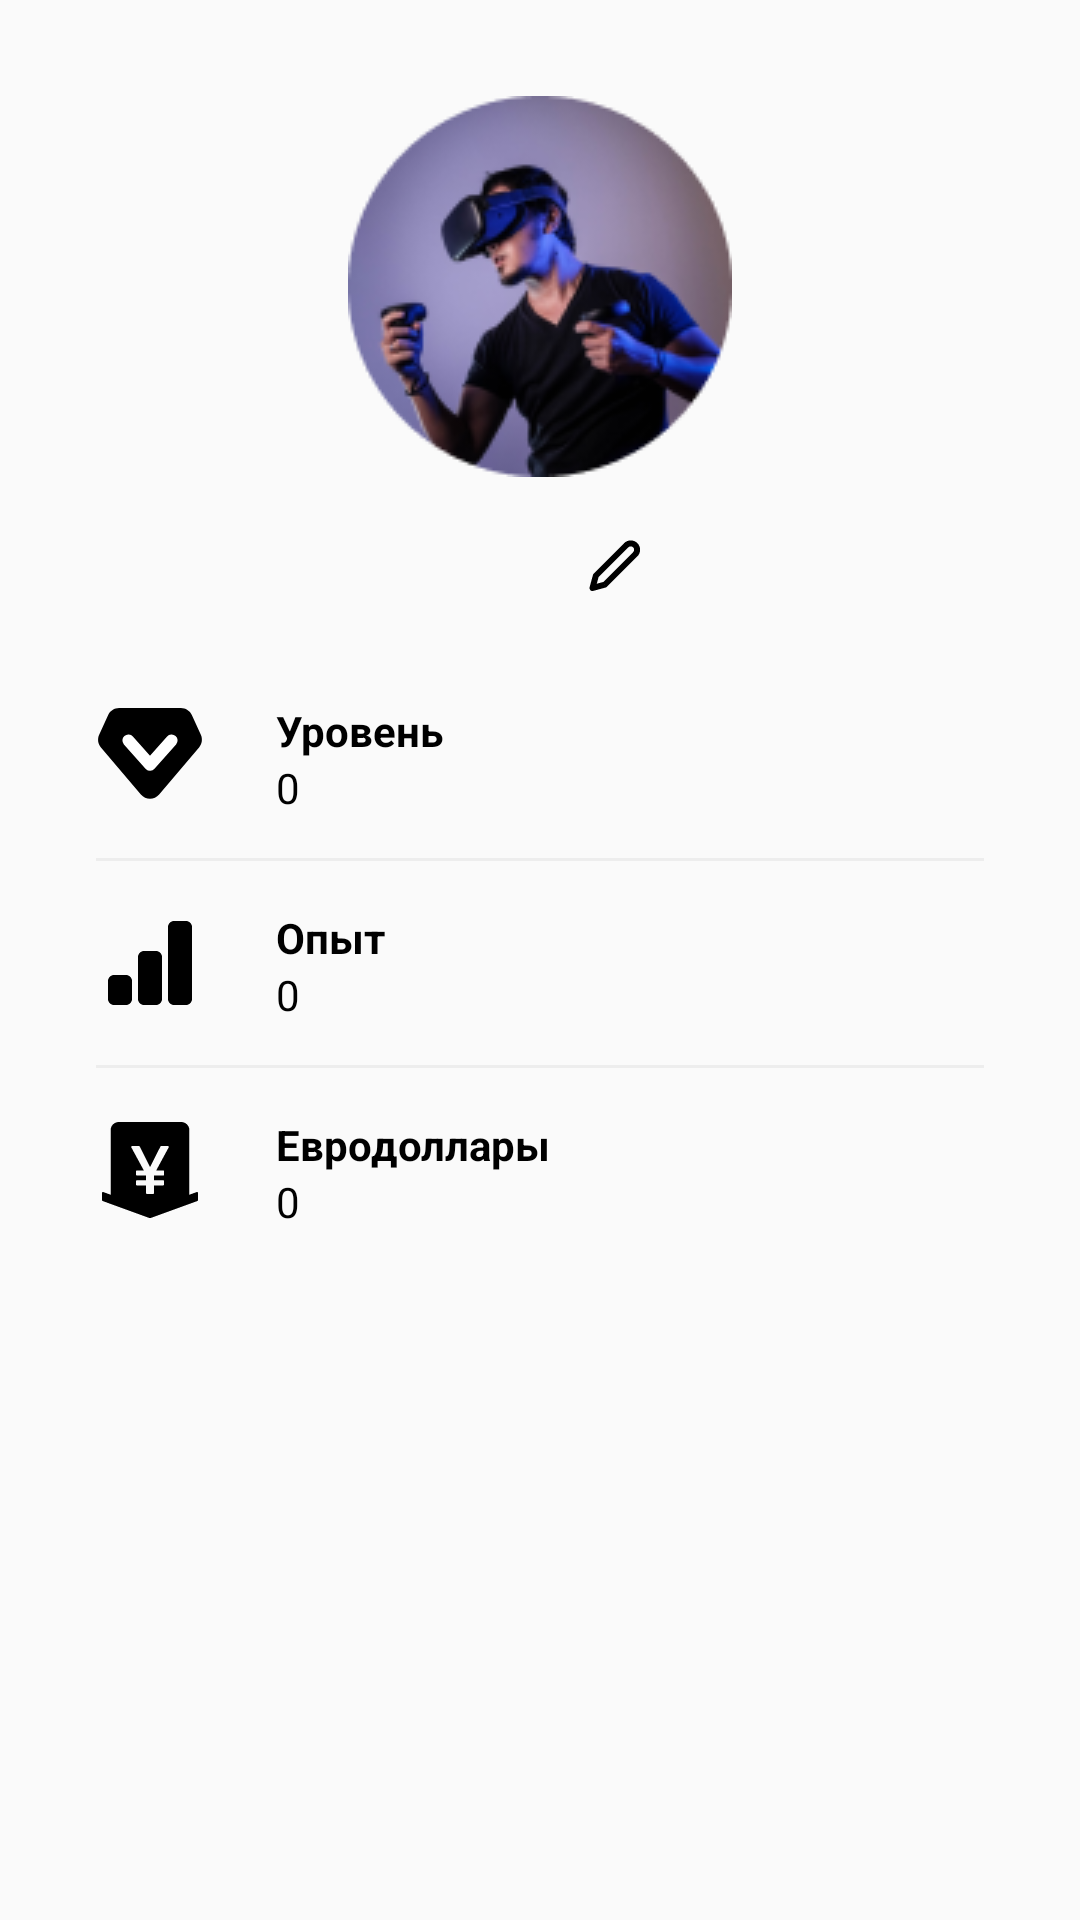

Point at icon controls on the screen. Image size 1080 x 1920, points as (x=x, y=y).
edit: (x=614, y=565)
exp: (x=150, y=963)
level: (x=150, y=753)
money: (x=150, y=1170)
